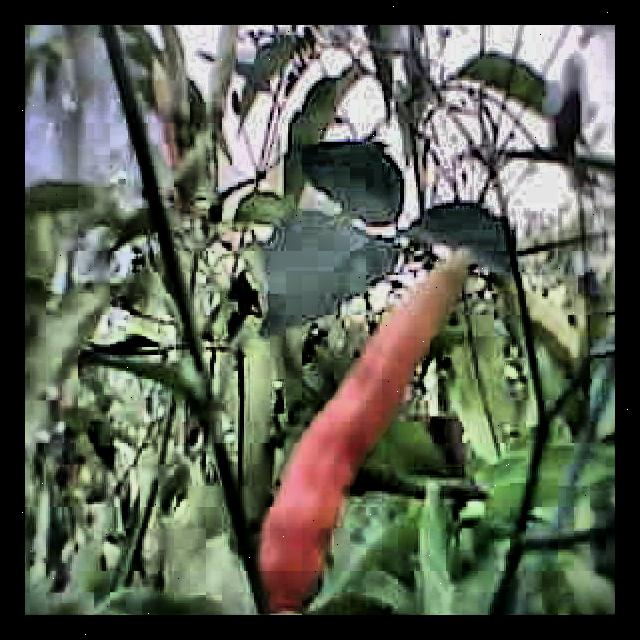Cabai: (239, 253, 451, 598)
